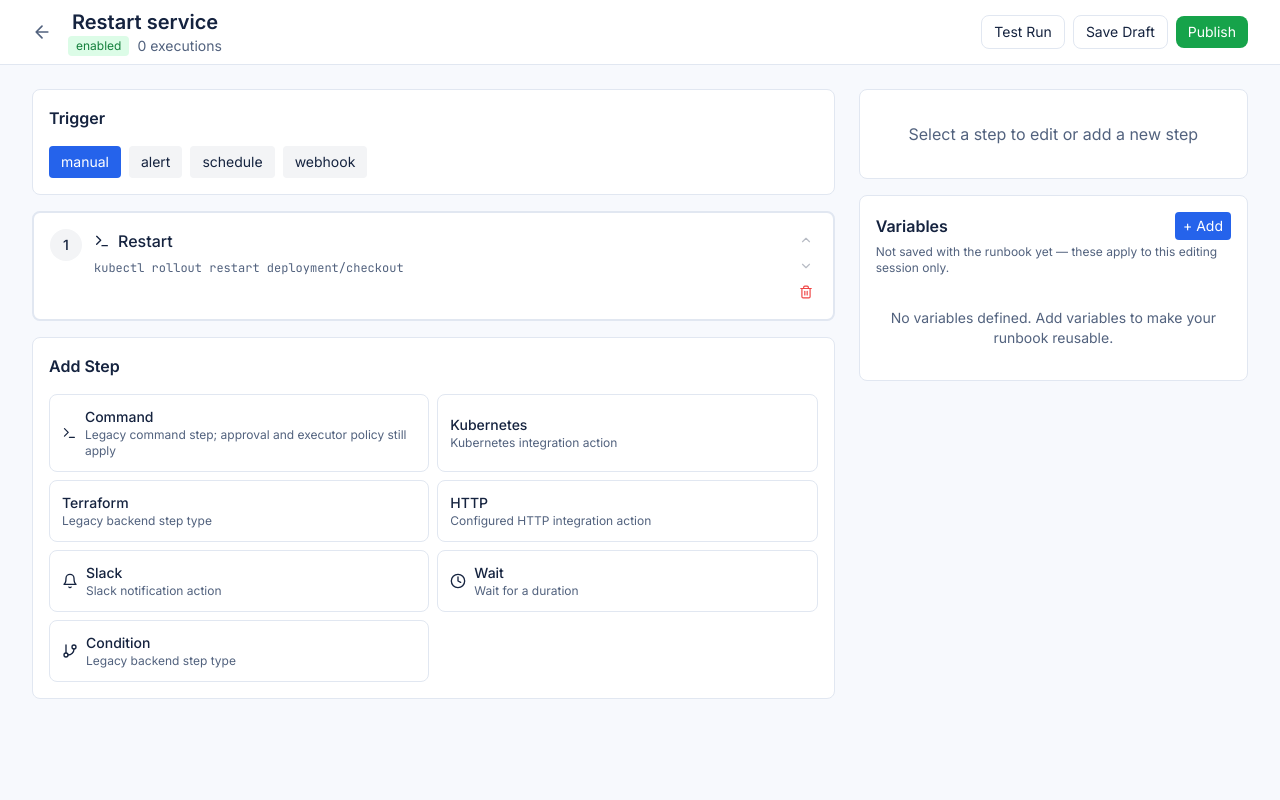
Test: RunbookBuilder round trip › shows the loaded command and approval gate in the editor
The width and height of the screenshot is (1280, 800).
Click the text "Restart" at (145, 241), box [118,229,173,253]
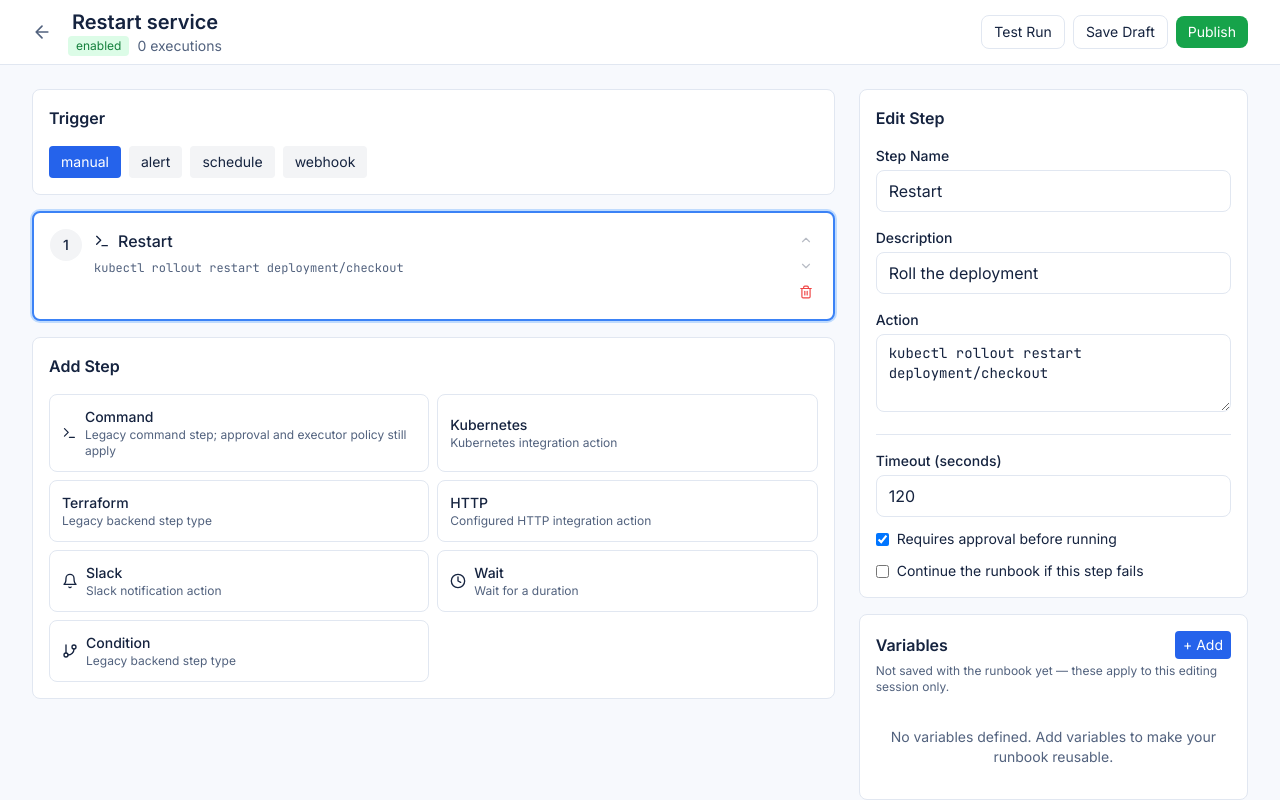
expect the field showing "Roll the deployment" below "Description" is shown: met, box [876,252,1231,294]
expect the checkbox labelled "Requires approval before running" is checked: met, box [876,532,889,546]
